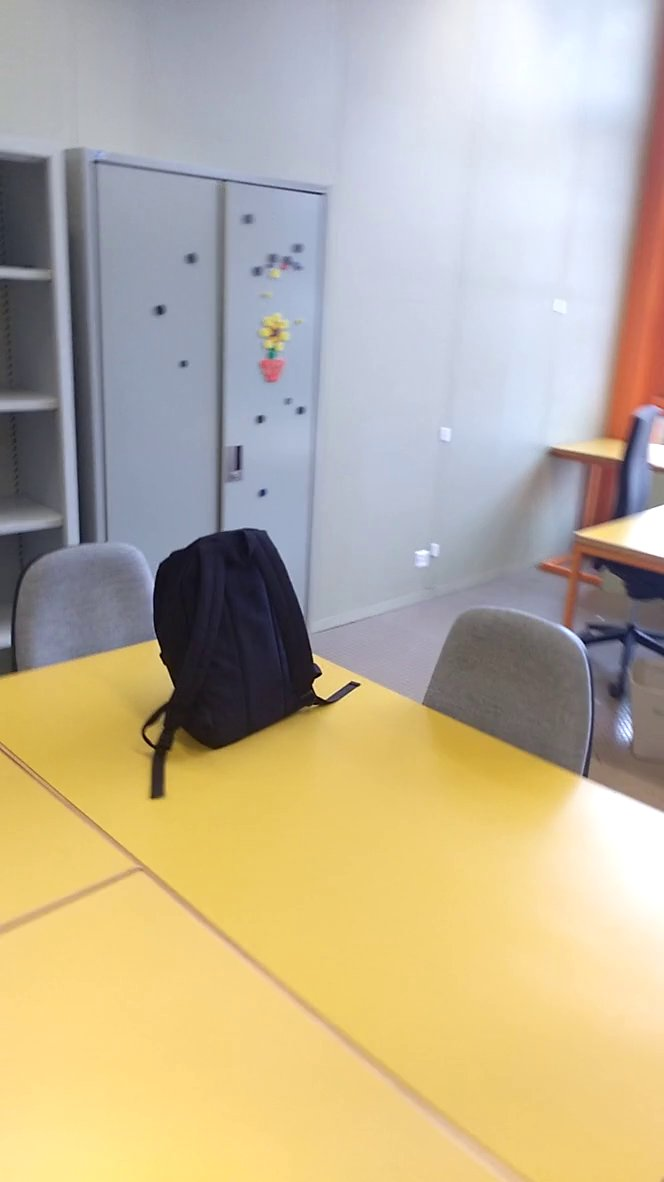bag: (131, 523, 365, 805)
chair: (384, 586, 608, 805), (3, 526, 181, 687), (574, 398, 664, 626)
